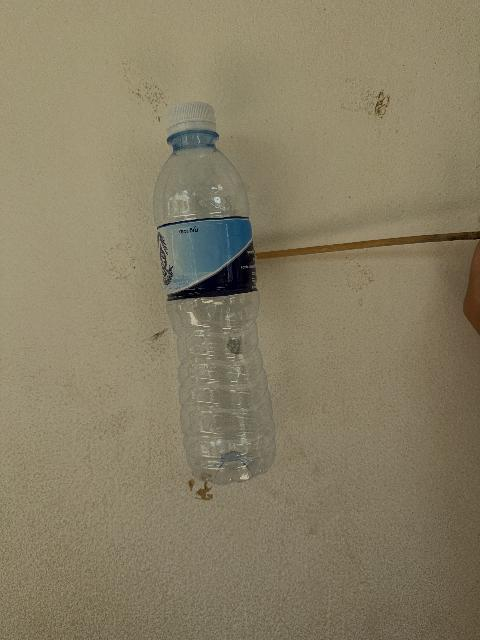bottle: (153, 102, 274, 484)
